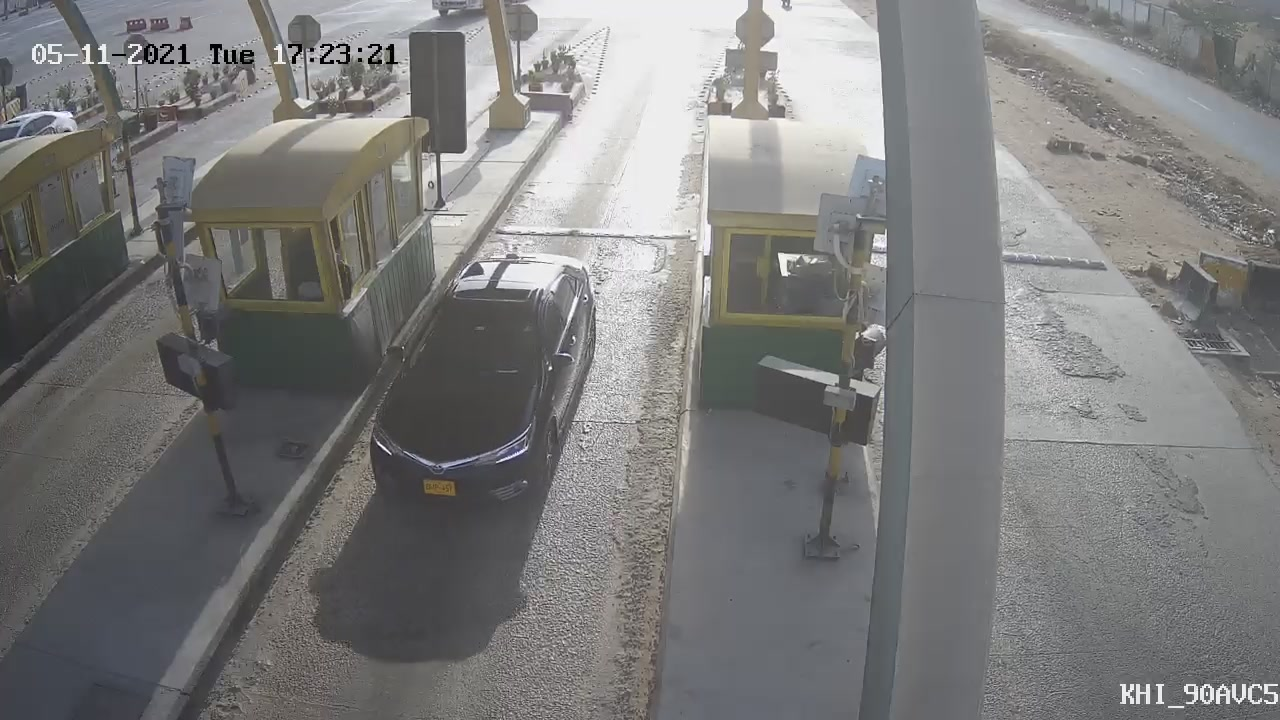F1: (334, 238, 617, 542)
